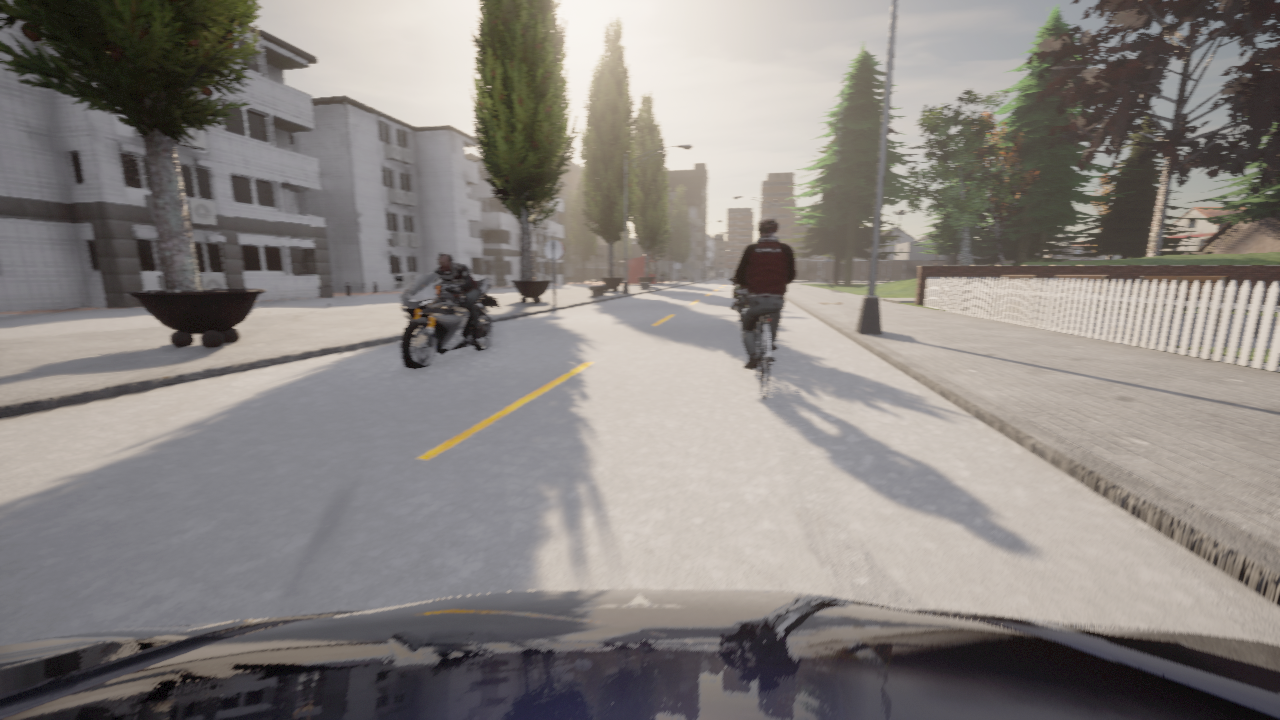cyclist: (0, 588, 1279, 719), (393, 272, 500, 369), (748, 315, 774, 399), (728, 278, 747, 321)
pedestrian: (660, 275, 662, 283)
